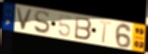5: (58, 13, 73, 38)
6: (115, 22, 133, 49)
B: (73, 15, 93, 41)
S: (33, 10, 51, 35)
T: (98, 19, 112, 45)
V: (14, 6, 34, 32)
